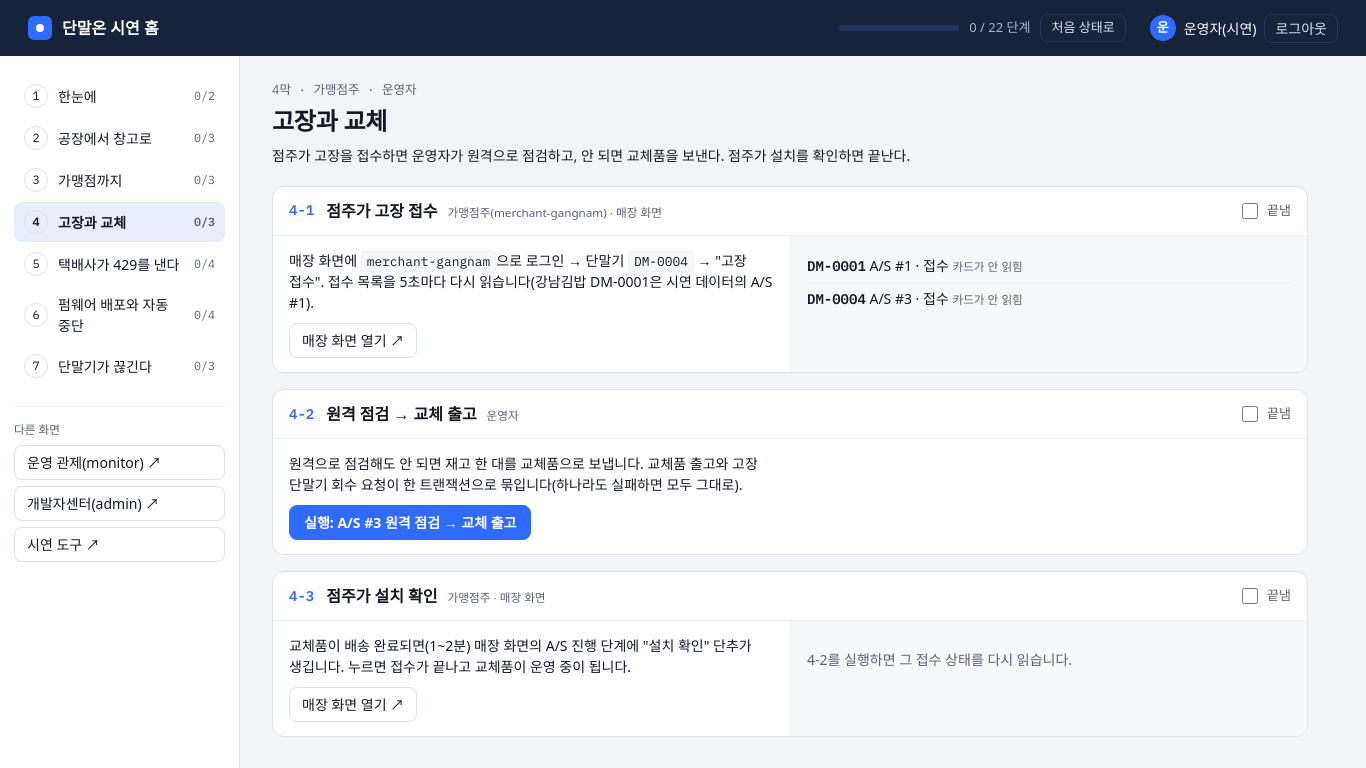
Test: 막 4 고장과 교체 › 가장 최근 열린 접수를 원격 점검 → 교체 출고하고 결과를 보인다
Click the button "실행: A/S #3 원격 점검 → 교체 출고" at (410, 523), box [289, 505, 532, 540]
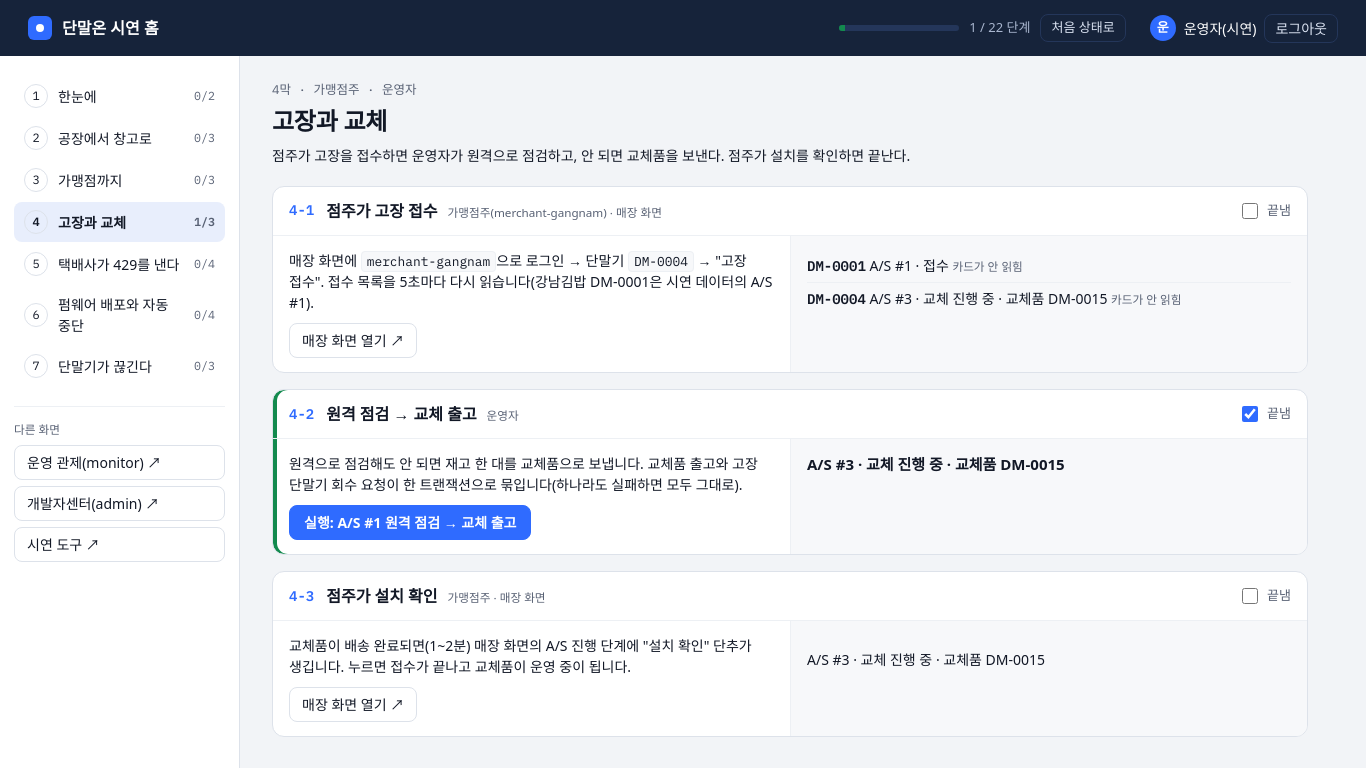
Now the 1st text "A/S #3 · 교체 진행 중 · 교체품 DM-0015" is shown, box [807, 454, 1065, 474]
